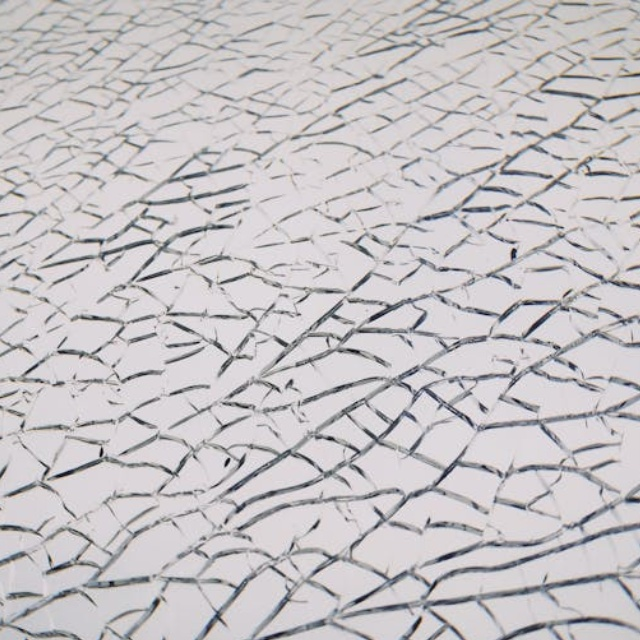细微裂纹: (147, 560, 640, 636)
